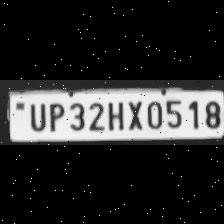0: (143, 96, 163, 128)
1: (183, 97, 200, 128)
2: (86, 97, 104, 130)
3: (65, 98, 85, 130)
5: (163, 96, 183, 128)
8: (200, 97, 222, 128)
H: (104, 97, 124, 130)
P: (46, 99, 64, 130)
U: (26, 99, 46, 130)
X: (125, 96, 143, 130)
